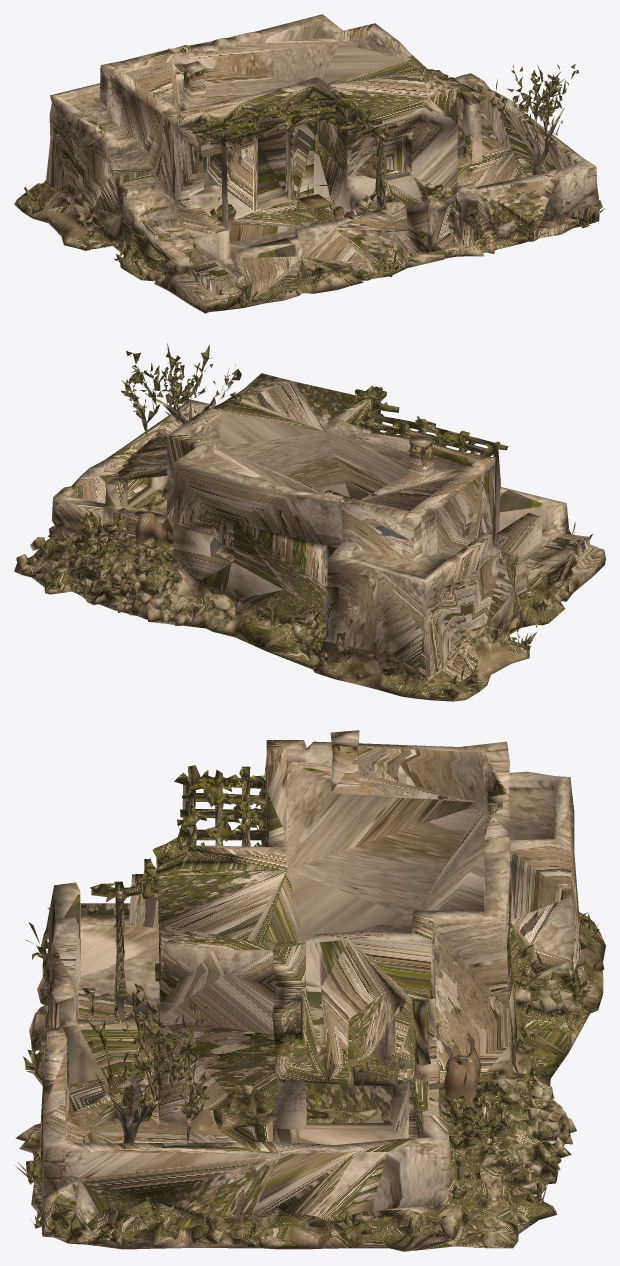
File: Olive_Grove_Cottage.glb
The picture shows the model from 3 angles, top to bottom: view 1: azimuth 30°, elevation 25°; view 2: azimuth 150°, elevation 25°; view 3: azimuth 270°, elevation 25°; orthographic projection. The views are drawn at different scales.
Parts seen in each view (by area): view 1: Olive_Grove_Cottage; view 2: Olive_Grove_Cottage; view 3: Olive_Grove_Cottage.
Part boxes in pixels (x1=…): Olive_Grove_Cottage: x1=14, y1=14, x2=605, y2=313; Olive_Grove_Cottage: x1=14, y1=343, x2=605, y2=701; Olive_Grove_Cottage: x1=14, y1=730, x2=605, y2=1251.
Size of the model in its own units: 1.8 by 0.632 by 1.3.
1 material, 1 textured.
